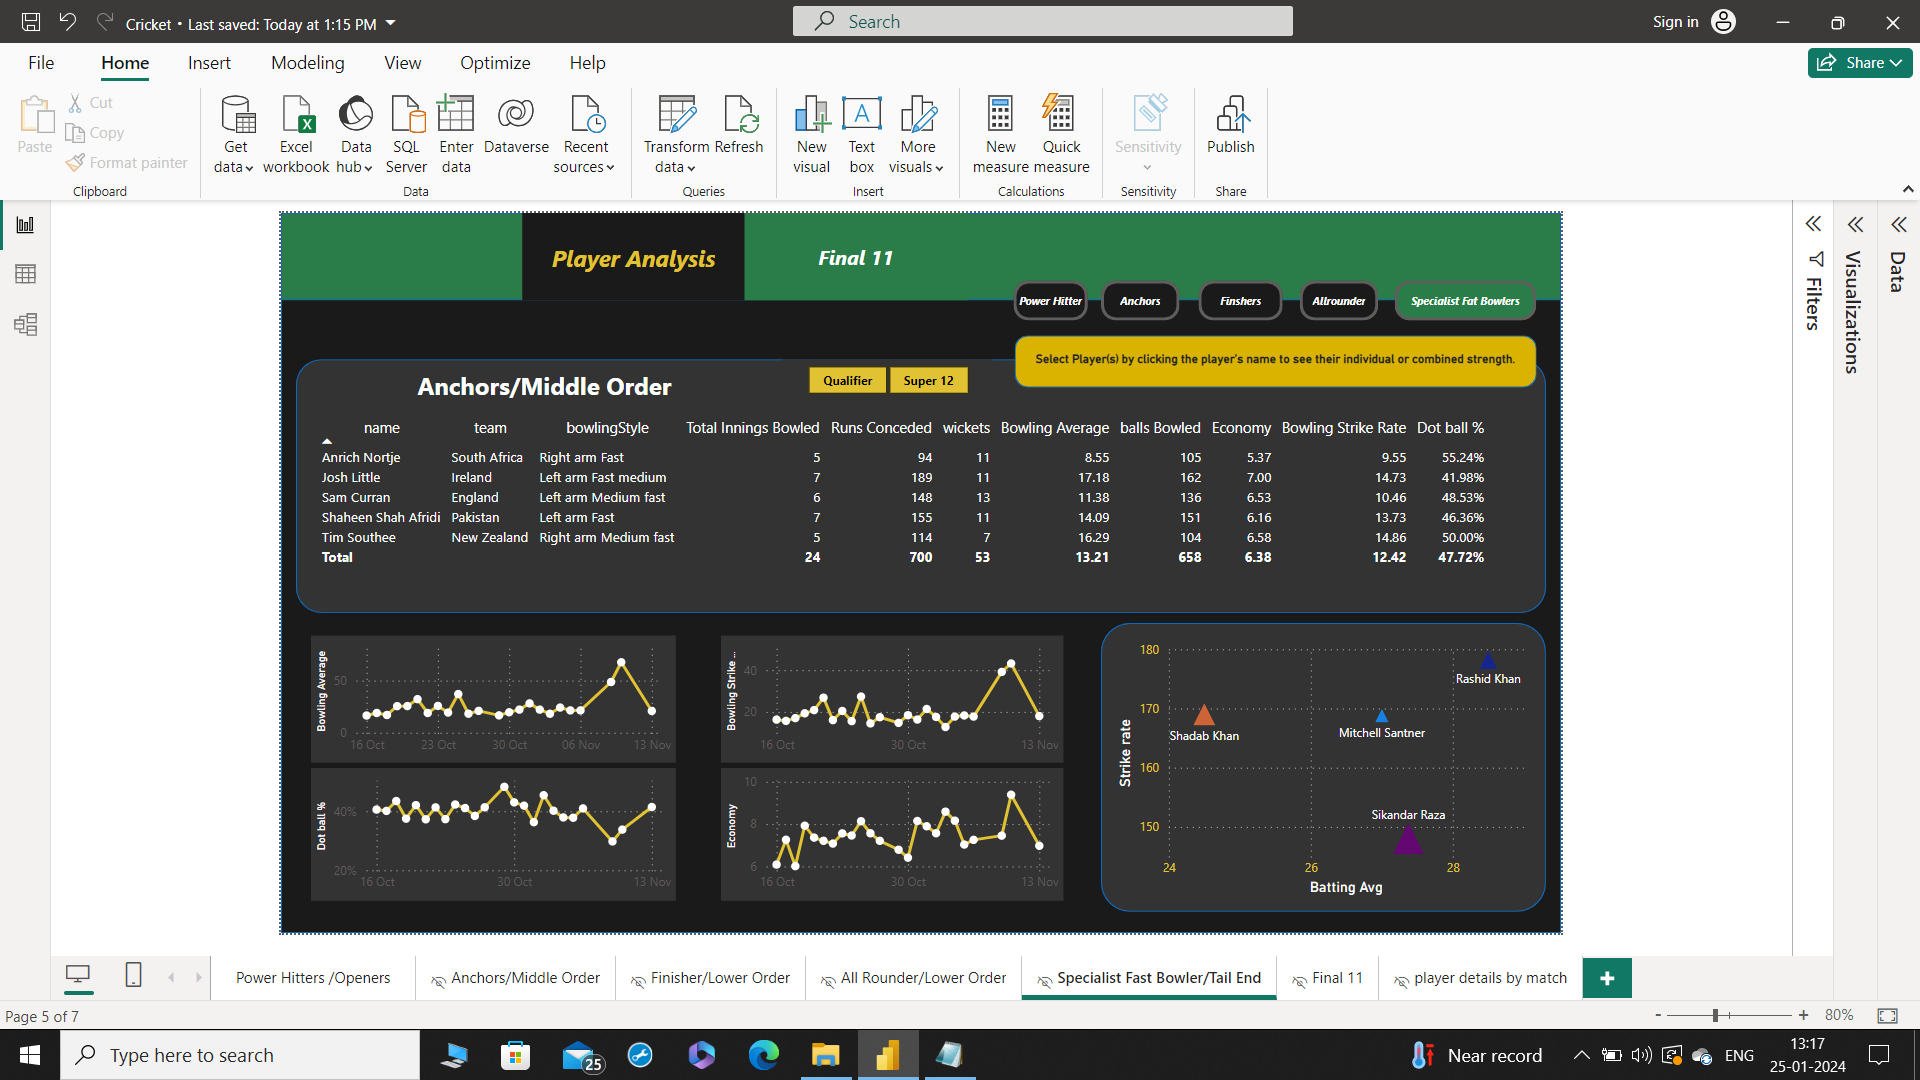

The dashboard page shown, as its layout file describes it:
{"tool":"powerbi","page":{"name":"Anchors/Middle Order","canvas":[1280,720],"ordinal":1},"visuals":[{"type":"shape","box":[0,78.8,1280,641.2],"z":0},{"type":"shape","box":[0,0,1280,87.1],"z":1000},{"type":"lineChart","fields":{"Y":["Key Measures.Batting Avg"],"Category":["dim_match_summary.matchDate"]},"box":[30,422.5,365,127.5],"z":2000},{"type":"lineChart","fields":{"Y":["Key Measures.Strike rate"],"Category":["dim_match_summary.matchDate"]},"box":[30,555,365,132.5],"z":3000},{"type":"lineChart","fields":{"Y":["Key Measures.Boundary %"],"Category":["dim_match_summary.matchDate"]},"box":[440,555,342.5,132.5],"z":4000},{"type":"lineChart","fields":{"Y":["Key Measures.Average Balls Faced"],"Category":["dim_match_summary.matchDate"]},"box":[440,422.5,342.5,127.5],"z":5000},{"type":"actionButton","box":[241.2,0,222.5,87.5],"z":6000},{"type":"shape","box":[820,410,445,288.8],"z":7000},{"type":"actionButton","box":[463.8,0,222.5,87.5],"z":8000},{"type":"actionButton","box":[732.9,67.1,87.1,40],"z":9000},{"type":"shape","box":[15,146.2,1250,253.8],"z":10000},{"type":"actionButton","box":[841.4,67.1,78.6,40],"z":11000},{"type":"actionButton","box":[935.7,67.1,71.4,40],"z":12000},{"type":"actionButton","box":[1114.3,67.1,141.4,40],"z":13000},{"type":"slicer","fields":{"Values":["dim_match_summary.stage"]},"box":[501.2,146.2,210,41.2],"z":15000},{"type":"scatterChart","fields":{"X":["Key Measures.Batting Avg"],"Y":["Key Measures.Strike rate"],"Category":["dim_players.name"],"Series":["dim_players.name"],"Size":["Key Measures.Total Runs"]},"box":[831.2,422.5,423.8,265],"z":16000},{"type":"textbox","box":[105.7,151.4,314.3,45.7],"z":17000},{"type":"tableEx","title":"Shortlisted Based On Criteria","fields":{"Values":["dim_players.name","dim_players.team","dim_players.battingStyle","Key Measures.Total Innings Batted","Key Measures.Total Runs","Key Measures.total balls faced","Key Measures.Strike rate","Key Measures.Batting Avg","Key Measures.Batting Position","Key Measures.Boundary %"]},"box":[30,208.6,1225.7,181.4],"z":18000},{"type":"actionButton","box":[1025.7,67.1,71.4,40],"z":19000},{"type":"shape","box":[733.1,122.5,521.9,51.9],"z":19001},{"type":"textbox","title":"Combined Strength","box":[755,137.5,162.5,21.2],"z":19002},{"type":"card","fields":{"Values":["Key Measures.Batting Avg"]},"box":[940,122.1,62.9,51.4],"z":19003},{"type":"card","fields":{"Values":["Key Measures.Strike rate"]},"box":[1008.6,122.1,62.9,51.4],"z":19004},{"type":"card","fields":{"Values":["Key Measures.Average Balls Faced"]},"box":[1077.1,122.9,62.9,51.4],"z":19005},{"type":"card","fields":{"Values":["Key Measures.Boundary %"]},"box":[1147.1,122.1,68.6,51.4],"z":19006},{"type":"card","fields":{"Values":["Key Measures.Display Text"]},"box":[746.2,132.5,493.8,32.5],"z":19007}]}

Visuals, with their boxes on the page's 1280x720 design canvas (x1, y1, x2, y2). These are canvas units, not pixel positions in the 1920x1080 screenshot, which may show the page scaled, cropped or inside an application window:
shape: {"x1": 0, "y1": 79, "x2": 1280, "y2": 720}
shape: {"x1": 0, "y1": 0, "x2": 1280, "y2": 87}
lineChart - Key Measures.Batting Avg x dim_match_summary.matchDate: {"x1": 30, "y1": 422, "x2": 395, "y2": 550}
lineChart - Key Measures.Strike rate x dim_match_summary.matchDate: {"x1": 30, "y1": 555, "x2": 395, "y2": 688}
lineChart - Key Measures.Boundary % x dim_match_summary.matchDate: {"x1": 440, "y1": 555, "x2": 782, "y2": 688}
lineChart - Key Measures.Average Balls Faced x dim_match_summary.matchDate: {"x1": 440, "y1": 422, "x2": 782, "y2": 550}
actionButton: {"x1": 241, "y1": 0, "x2": 464, "y2": 88}
shape: {"x1": 820, "y1": 410, "x2": 1265, "y2": 699}
actionButton: {"x1": 464, "y1": 0, "x2": 686, "y2": 88}
actionButton: {"x1": 733, "y1": 67, "x2": 820, "y2": 107}
shape: {"x1": 15, "y1": 146, "x2": 1265, "y2": 400}
actionButton: {"x1": 841, "y1": 67, "x2": 920, "y2": 107}
actionButton: {"x1": 936, "y1": 67, "x2": 1007, "y2": 107}
actionButton: {"x1": 1114, "y1": 67, "x2": 1256, "y2": 107}
slicer - dim_match_summary.stage: {"x1": 501, "y1": 146, "x2": 711, "y2": 187}
scatterChart - Key Measures.Batting Avg x Key Measures.Strike rate: {"x1": 831, "y1": 422, "x2": 1255, "y2": 688}
textbox: {"x1": 106, "y1": 151, "x2": 420, "y2": 197}
"Shortlisted Based On Criteria" tableEx: {"x1": 30, "y1": 209, "x2": 1256, "y2": 390}
actionButton: {"x1": 1026, "y1": 67, "x2": 1097, "y2": 107}
shape: {"x1": 733, "y1": 122, "x2": 1255, "y2": 174}
"Combined Strength" textbox: {"x1": 755, "y1": 138, "x2": 918, "y2": 159}
card - Key Measures.Batting Avg: {"x1": 940, "y1": 122, "x2": 1003, "y2": 174}
card - Key Measures.Strike rate: {"x1": 1009, "y1": 122, "x2": 1072, "y2": 174}
card - Key Measures.Average Balls Faced: {"x1": 1077, "y1": 123, "x2": 1140, "y2": 174}
card - Key Measures.Boundary %: {"x1": 1147, "y1": 122, "x2": 1216, "y2": 174}
card - Key Measures.Display Text: {"x1": 746, "y1": 132, "x2": 1240, "y2": 165}
